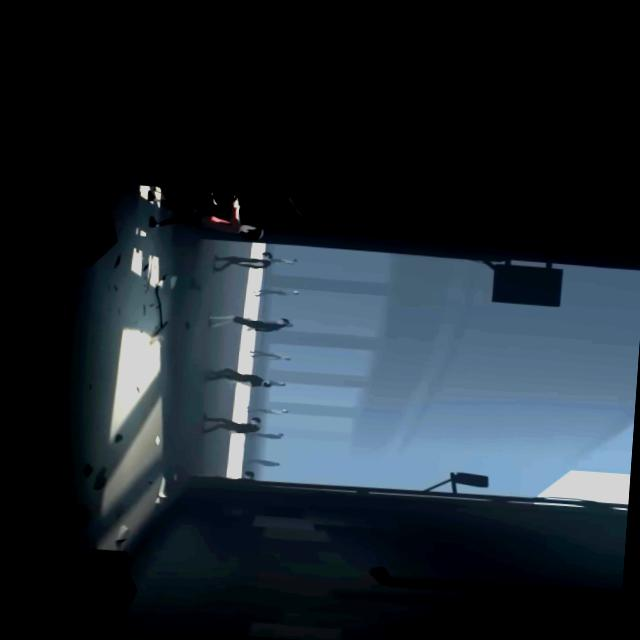boy: (144, 188, 266, 240)
